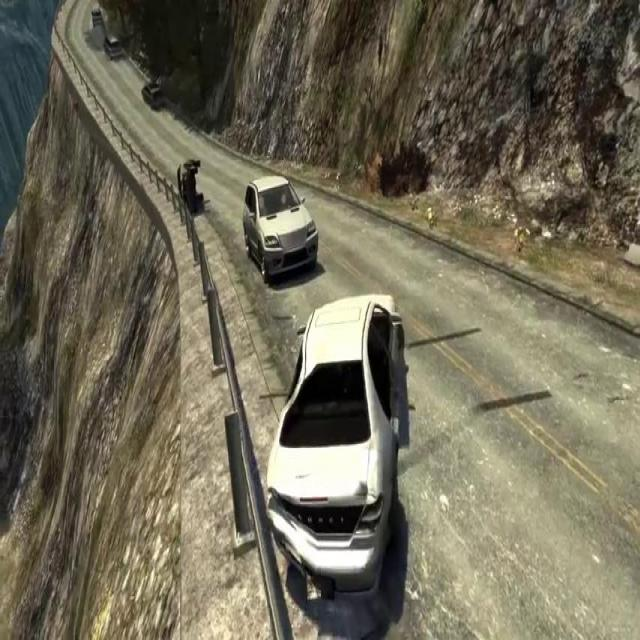accident: (176, 156, 205, 216)
